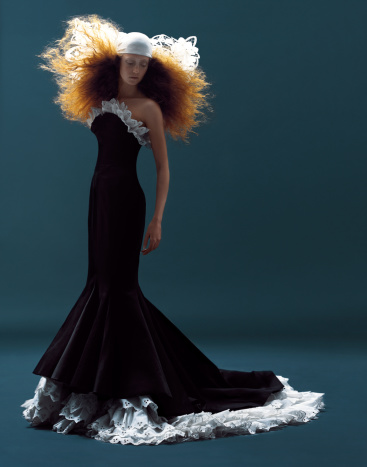em pe: (32, 6, 226, 447)
